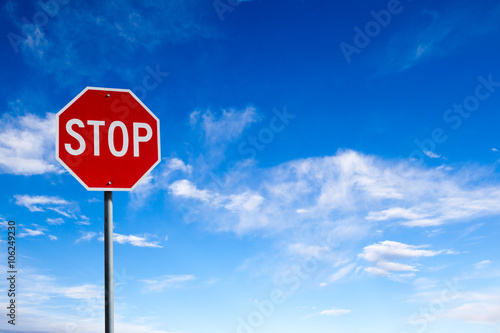StopSign: (55, 86, 160, 190)
